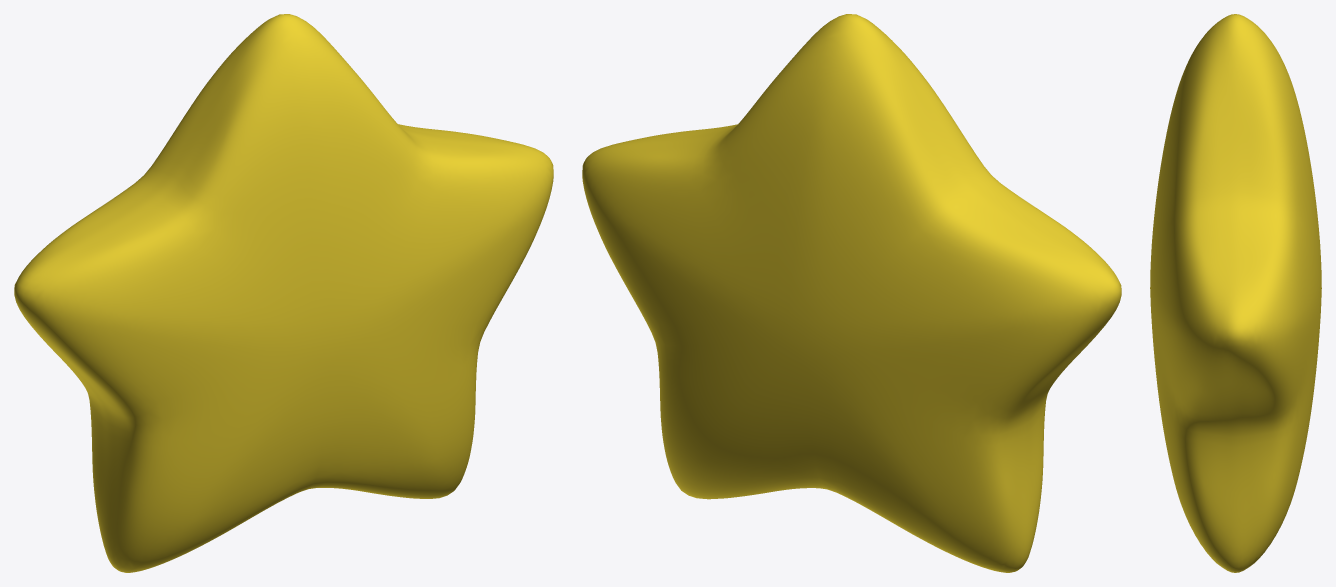
Rendered from Star.fbx.
3 renders of one model, left to right at view 1: azimuth 30°, elevation 25°; view 2: azimuth 150°, elevation 25°; view 3: azimuth 270°, elevation 25°, orthographic. The views are drawn at different scales.
Visible parts, largest first — view 1: star; view 2: star; view 3: star.
Part boxes in pixels (x1,y1,x2,y2): star: (14, 14, 553, 572); star: (582, 14, 1121, 572); star: (1150, 14, 1321, 572).
Bounding box in the file's own units: 22.79 × 21.13 × 6.79.
